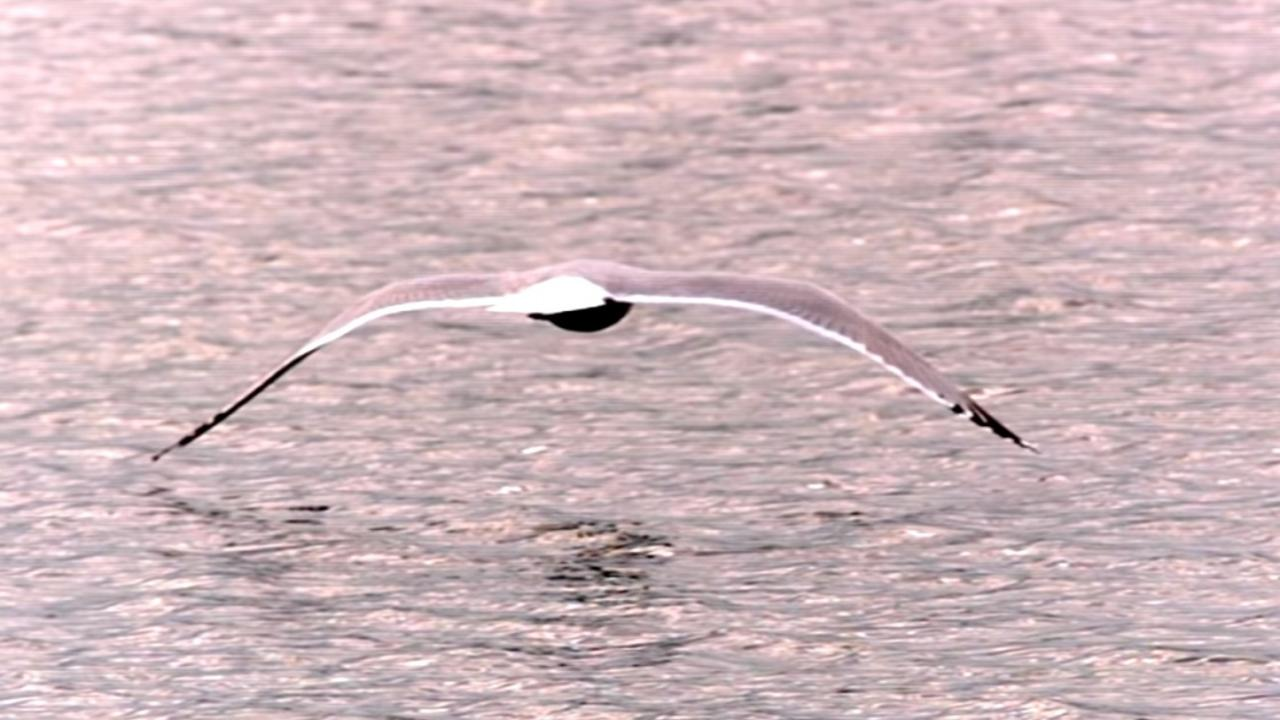Bird: (141, 245, 1058, 473)
